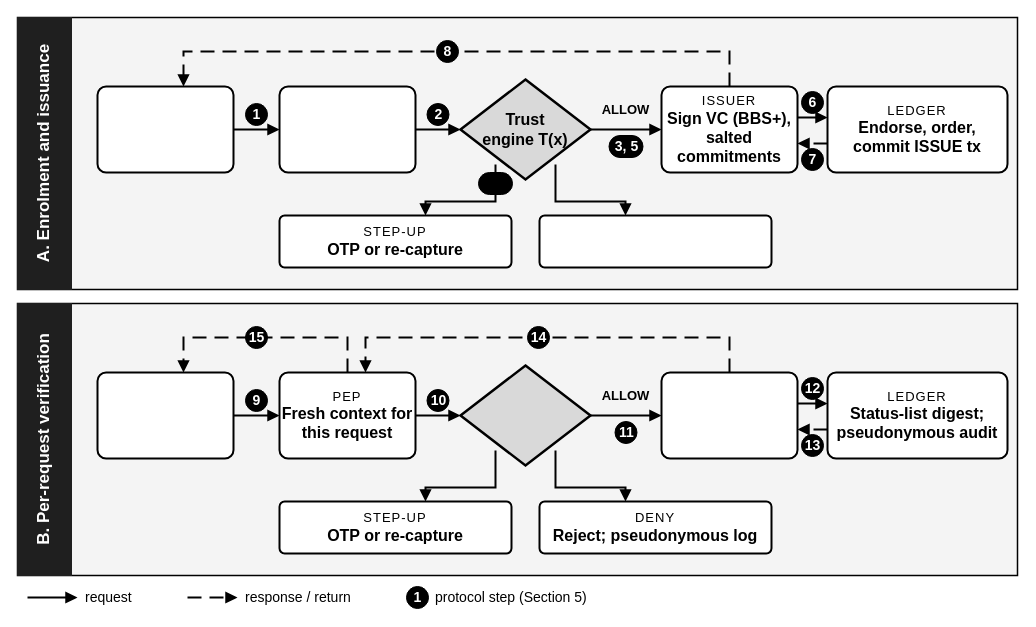
Some shapes in this 1036 by 627 pixel diagram are drawn without their labels. The shapes that lost their labels are listed below. From the top down, each one's centre as x and y in pixels, then its label:
At (165,129): "WALLET Enrol: live capture, device attestation".
At (347,129): "PEP Build request context x".
At (495,183): "4a-b".
At (655,241): "DENY Reject and log".
At (165,415): "WALLET Present claim or predicate (BBS+ proof)".
At (525,415): "Re-score T(x)".
At (729,415): "VERIFIER Check proof and status list bit".
